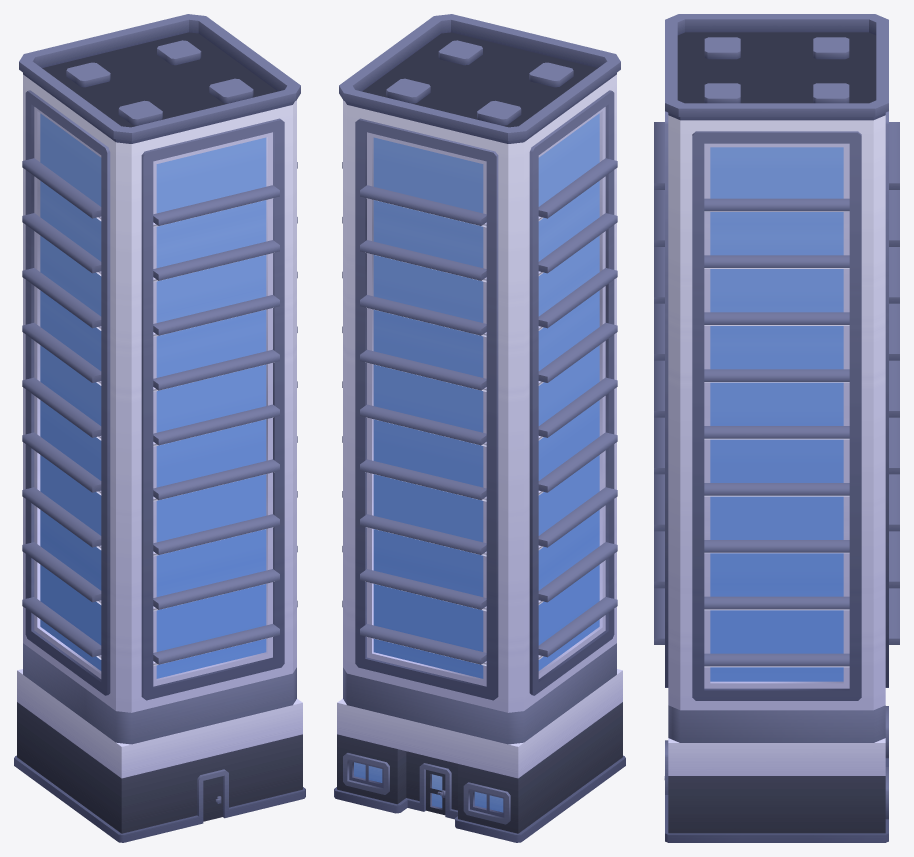
Rendered from neon_tower_b.glb.
The picture shows the model from 3 angles, left to right: view 1: azimuth 30°, elevation 25°; view 2: azimuth 150°, elevation 25°; view 3: azimuth 270°, elevation 25°; orthographic projection. The views are drawn at different scales.
Visible parts, largest first — view 1: building-skyscraper-b; view 2: building-skyscraper-b; view 3: building-skyscraper-b.
Part boxes in pixels (left/top/right/bottom): building-skyscraper-b: left=14, top=14, right=305, bottom=842; building-skyscraper-b: left=334, top=14, right=625, bottom=842; building-skyscraper-b: left=654, top=14, right=899, bottom=842.
Size of the model in its own units: 15.2 by 50.07 by 15.2.
1 material, 1 textured.
